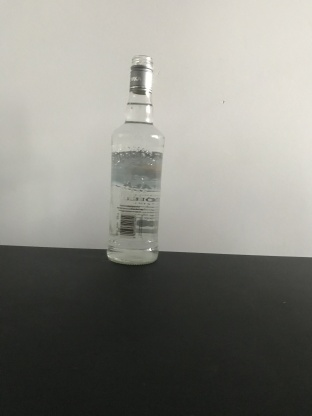nakretka: (128, 53, 155, 95)
